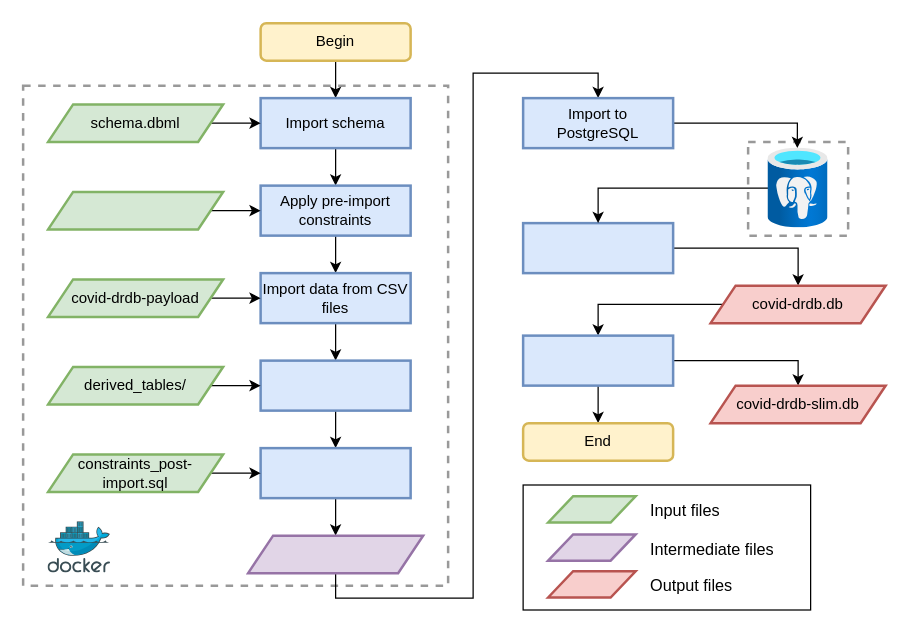
This 908x631 diagram has some shape labels left out. The box of each missing label's shape, as (x1, y1, x2, y2) in pixels:
*.sql files: (246, 534, 424, 574)
Apply post-import constraints: (259, 446, 411, 499)
constraints_pre-import.sql: (46, 190, 224, 230)
Create "slim" SQLite3 files: (521, 334, 674, 386)
Export to SQLite3 files: (521, 221, 674, 274)
Generate derived tables: (259, 359, 411, 411)
